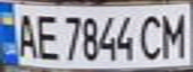4: (96, 11, 121, 62), (115, 11, 139, 62)
7: (57, 11, 81, 62)
8: (78, 12, 100, 62)
A: (9, 9, 39, 60)
C: (136, 10, 166, 61)
E: (33, 9, 60, 61)
M: (157, 8, 190, 60)
